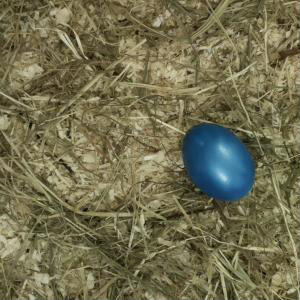egg: (183, 123, 256, 202)
